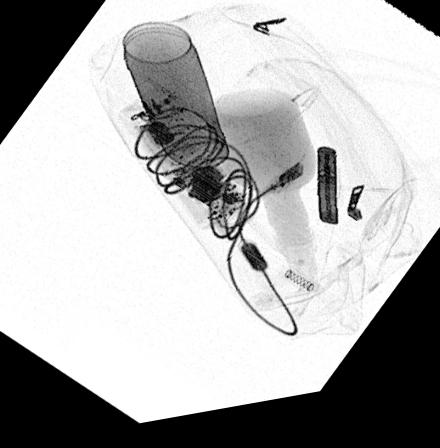Lighter: (314, 159, 338, 238)
